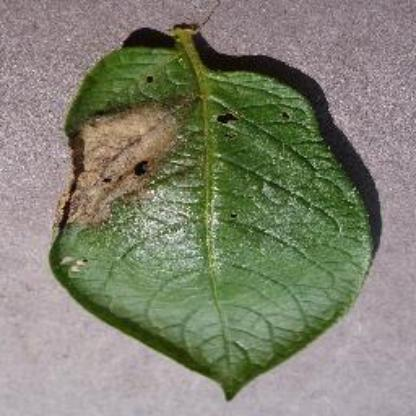Late-Blight: (47, 17, 379, 398)
